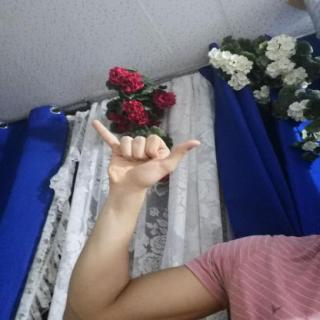YA: (81, 112, 207, 197)
